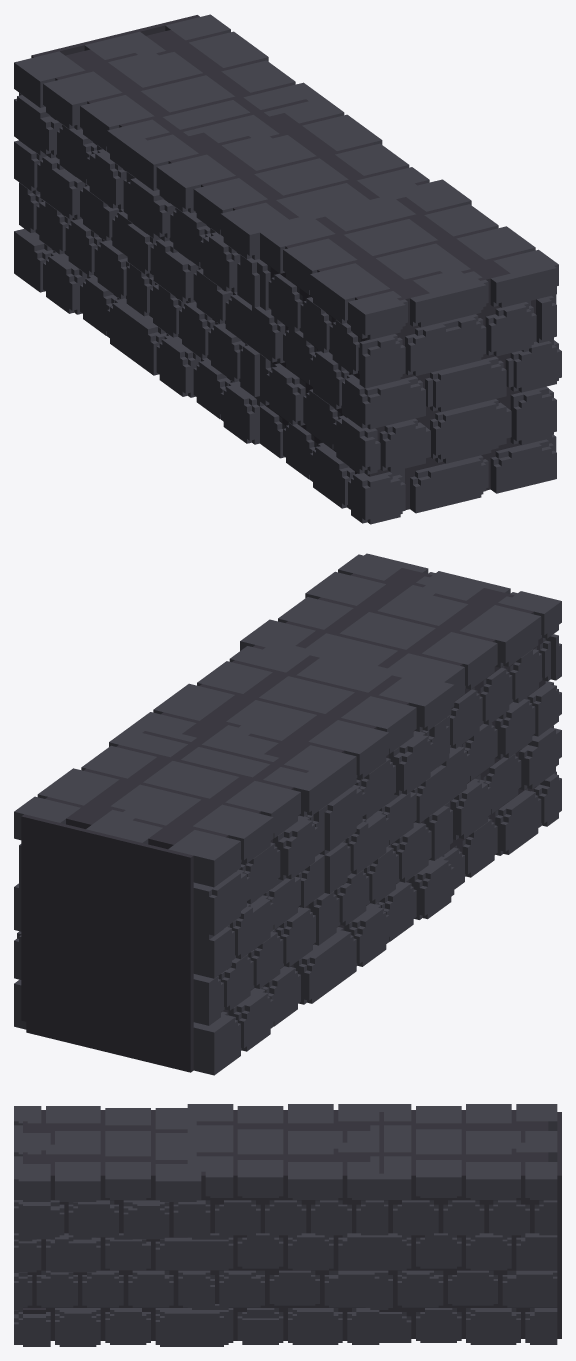
Rendered from SideWall_02.obj.
3 views of the same model, one above another, from view 1: azimuth 30°, elevation 25°; view 2: azimuth 150°, elevation 25°; view 3: azimuth 270°, elevation 25° (orthographic). The views are drawn at different scales.
Size of the model in its own units: 4 by 4 by 12.
1 material, 1 textured.
